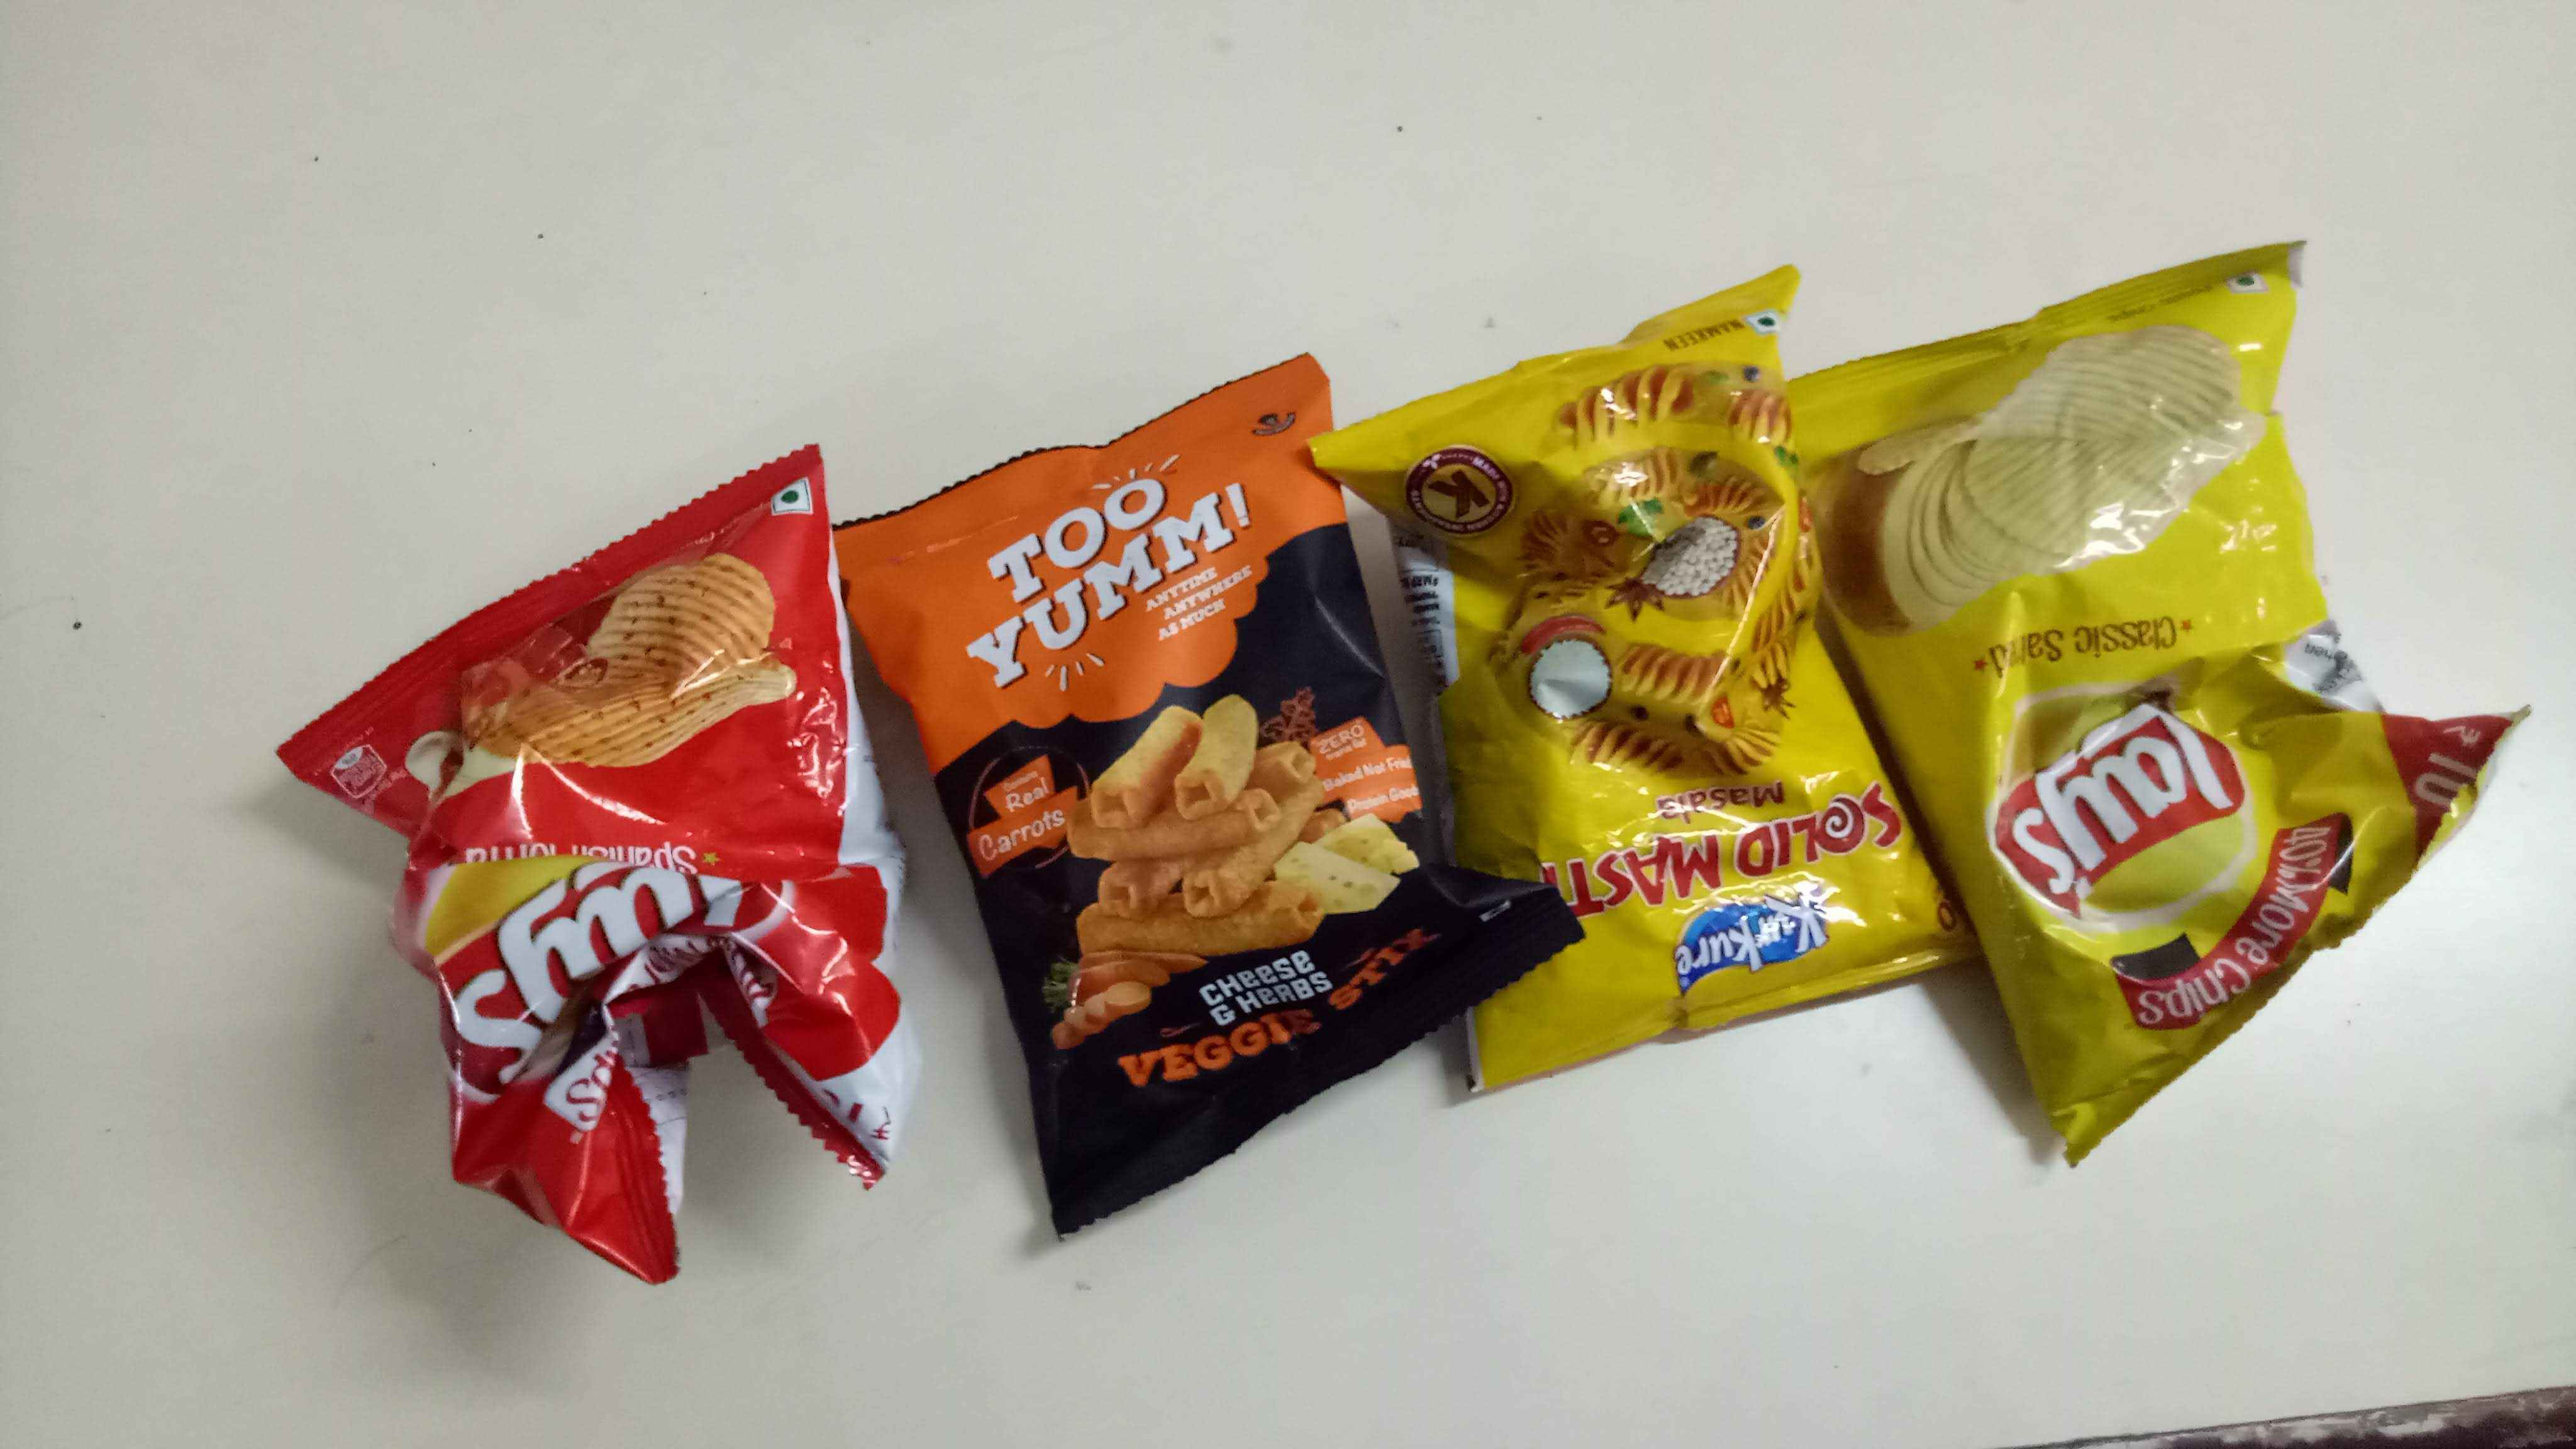Lays: (2006, 660, 2295, 975), (442, 842, 761, 1109)
kurkure: (1656, 888, 1842, 984)
tooyumm: (970, 458, 1256, 708)
